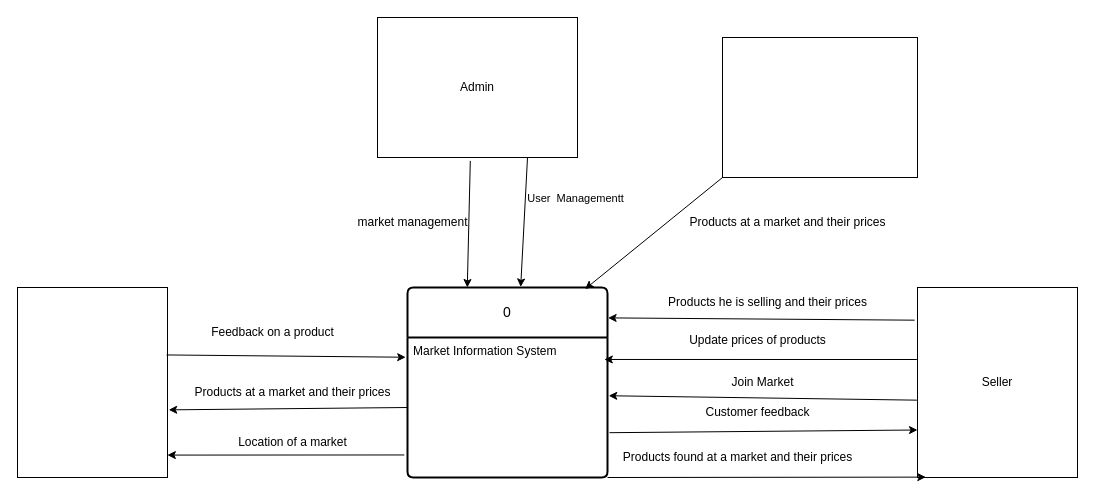
Image size: 1095x503. Some labels were removed from this diagram. Here are the shapes that lost their labels. From the top down, the centre of each, then its label:
point (820, 107): Scout
point (92, 382): Buyeter
